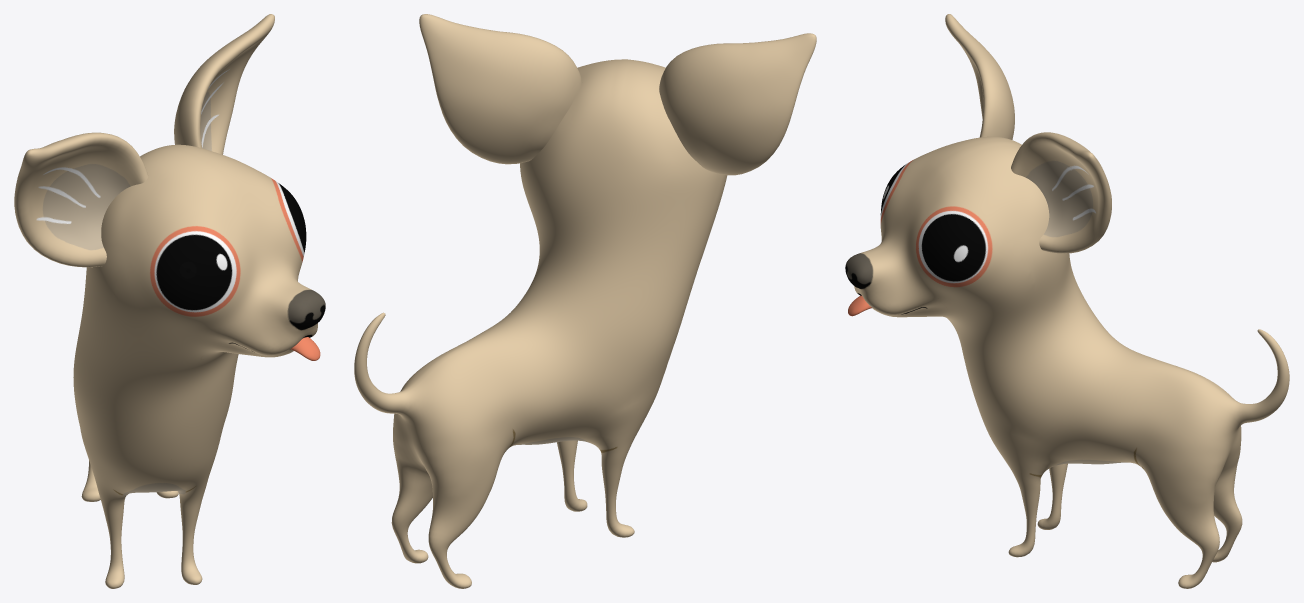
The model's file is small_dog.glb.
3 views of the same model, side by side, from view 1: azimuth 30°, elevation 25°; view 2: azimuth 150°, elevation 25°; view 3: azimuth 270°, elevation 25° (orthographic). The views are drawn at different scales.
Visible parts, largest first — view 1: node_id69; view 2: node_id69; view 3: node_id69.
Boxes of the visible parts, x1,y1,x2,y2 form: node_id69: [14, 14, 325, 588]; node_id69: [354, 14, 816, 588]; node_id69: [845, 14, 1289, 588].
Bounding box in the file's own units: 0.345 × 0.512 × 0.454.
1 material, 1 textured.
